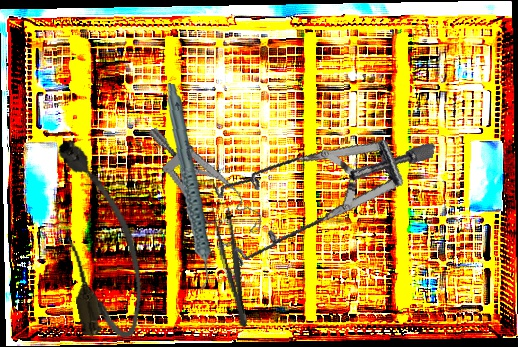Cannula: (45, 131, 153, 346)
Dressing Forceps: (207, 197, 255, 330)
Handpiece: (155, 83, 220, 291)
Speculum: (199, 98, 436, 303), (146, 104, 268, 260)
